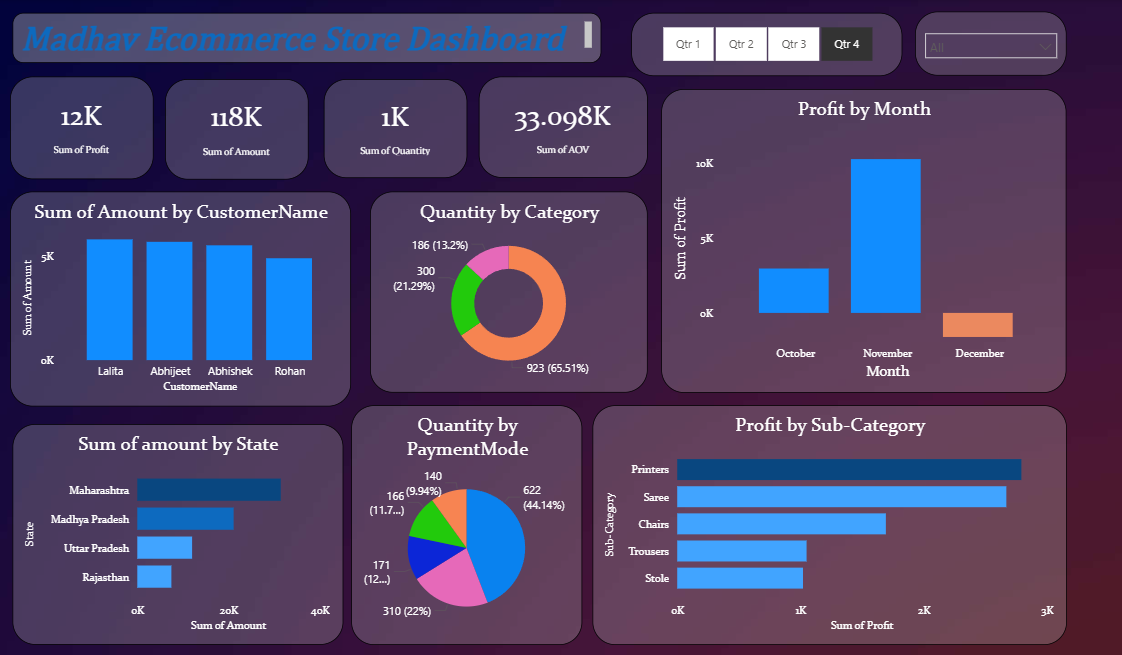

Layout of this report page (visuals, bound fields, positions):
{"tool":"powerbi","page":{"name":"Page 1","canvas":[1280,720],"ordinal":0},"visuals":[{"type":"textbox","box":[14.1,15.4,646.2,55.1],"z":0},{"type":"columnChart","title":" Profit by Month","fields":{"Y":["Sum(Details.Profit)"],"Category":["Orders.Order Date.Variation.Date Hierarchy.Month"]},"box":[725.6,98.7,444.9,333.3],"z":1000},{"type":"barChart","title":" Profit by Sub-Category","fields":{"Category":["Details.Sub-Category"],"Y":["Sum(Details.Profit)"]},"box":[650,446.2,520.5,262.8],"z":2000},{"type":"donutChart","title":"Quantity by Category","fields":{"Category":["Details.Category"],"Y":["Sum(Details.Quantity)"]},"box":[406.4,211.5,305.1,220.5],"z":3000},{"type":"pieChart","title":" Quantity by PaymentMode","fields":{"Category":["Details.PaymentMode"],"Y":["Sum(Details.Quantity)"]},"box":[385.9,446.2,253.8,262.8],"z":4000},{"type":"cardVisual","fields":{"Data":["Sum(Details.Profit)"]},"box":[11.5,84.6,157.7,112.8],"z":5000},{"type":"cardVisual","fields":{"Data":["Sum(Details.Amount)"]},"box":[180.8,87.2,157.7,110.3],"z":5001},{"type":"cardVisual","fields":{"Data":["Sum(Details.AOV)"]},"box":[525.6,84.6,185.9,111.5],"z":5002},{"type":"cardVisual","fields":{"Data":["Sum(Details.Quantity)"]},"box":[355.1,88.5,157.7,109],"z":5003},{"type":"barChart","title":"Sum of amount by State ","fields":{"Category":["Orders.State"],"Y":["Sum(Details.Amount)"]},"box":[14.1,466.7,362.8,242.3],"z":5004},{"type":"columnChart","fields":{"Y":["Sum(Details.Amount)"],"Category":["Orders.CustomerName"]},"box":[11.5,211.5,374.4,235.9],"z":5005},{"type":"slicer","fields":{"Values":["Orders.Order Date.Variation.Date Hierarchy.Quarter"]},"box":[693.6,15.4,297.4,69.2],"z":5006},{"type":"slicer","fields":{"Values":["Orders.State"]},"box":[1003.8,14.1,166.7,70.5],"z":5007}]}

Visuals, with their boxes on the page's 1280x720 design canvas (x1, y1, x2, y2). These are canvas units, not pixel positions in the 1122x655 screenshot, which may show the page scaled, cropped or inside an application window:
textbox: (14,15,660,70)
" Profit by Month" columnChart: (726,99,1170,432)
" Profit by Sub-Category" barChart: (650,446,1170,709)
"Quantity by Category" donutChart: (406,212,712,432)
" Quantity by PaymentMode" pieChart: (386,446,640,709)
cardVisual - Sum(Details.Profit): (12,85,169,197)
cardVisual - Sum(Details.Amount): (181,87,338,198)
cardVisual - Sum(Details.AOV): (526,85,712,196)
cardVisual - Sum(Details.Quantity): (355,88,513,198)
"Sum of amount by State " barChart: (14,467,377,709)
columnChart - Sum(Details.Amount) x Orders.CustomerName: (12,212,386,447)
slicer - Orders.Order Date.Variation.Date Hierarchy.Quarter: (694,15,991,85)
slicer - Orders.State: (1004,14,1170,85)
